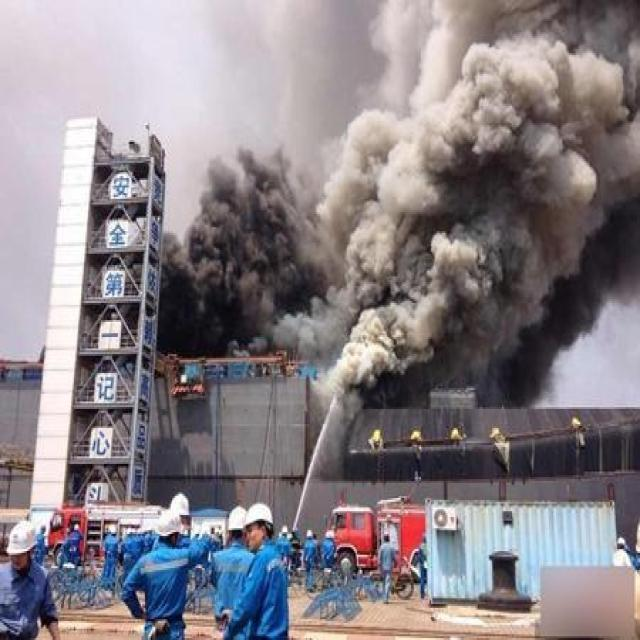Smoke: (281, 0, 640, 398), (150, 144, 320, 366)
